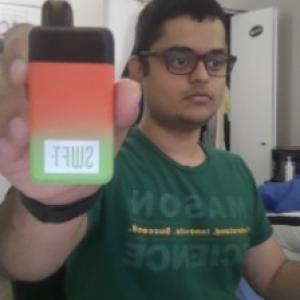Swift-E-Ciggirate: (27, 2, 122, 192)
